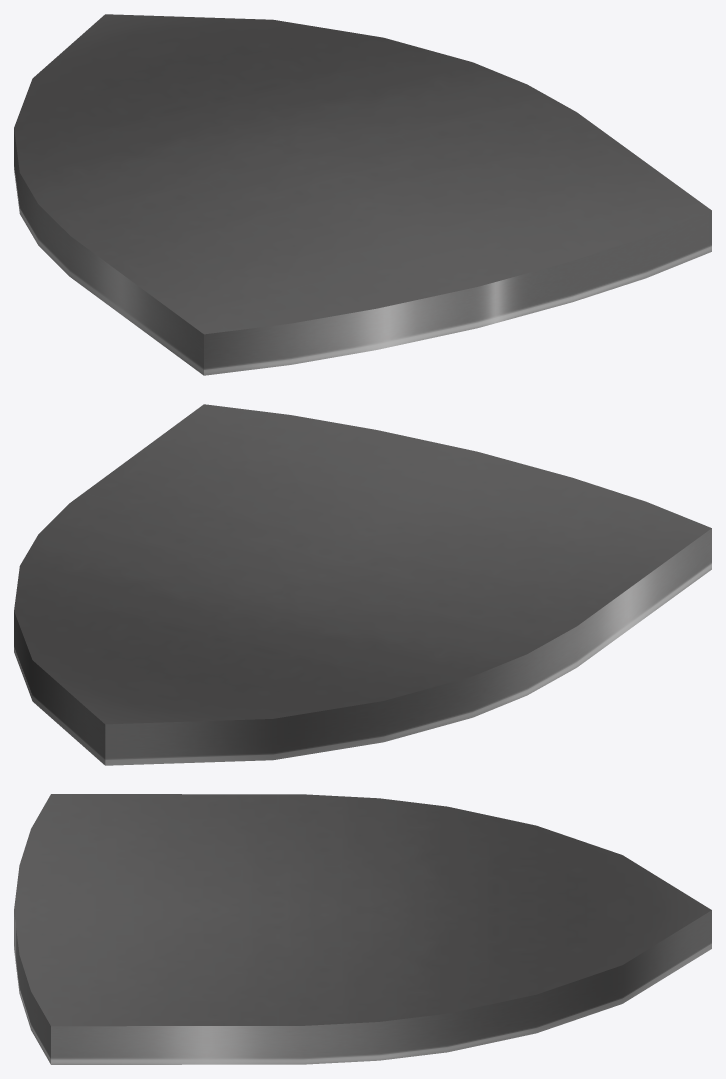
The model's file is HuBian_01_xiaohui_01.FBX.
The picture shows the model from 3 angles, top to bottom: view 1: azimuth 30°, elevation 25°; view 2: azimuth 150°, elevation 25°; view 3: azimuth 270°, elevation 25°; orthographic projection. The views are drawn at different scales.
Parts seen in each view (by area): view 1: HuBian_01_xiaohui_01; view 2: HuBian_01_xiaohui_01; view 3: HuBian_01_xiaohui_01.
Boxes of the visible parts, bbox=[...] form: HuBian_01_xiaohui_01: bbox=[14, 14, 711, 375]; HuBian_01_xiaohui_01: bbox=[14, 404, 711, 765]; HuBian_01_xiaohui_01: bbox=[14, 794, 711, 1064].
Bounding box in the file's own units: 31.25 × 2.43 × 39.69.
1 material, 1 textured.
